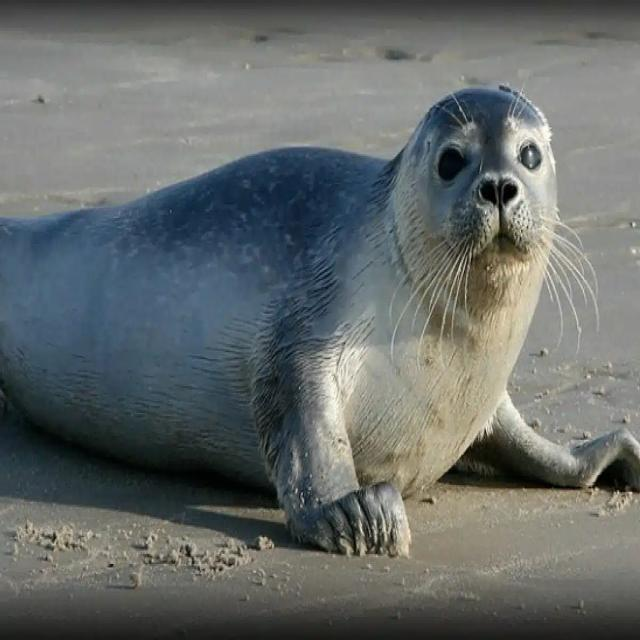WaterDog: (0, 82, 572, 550)
